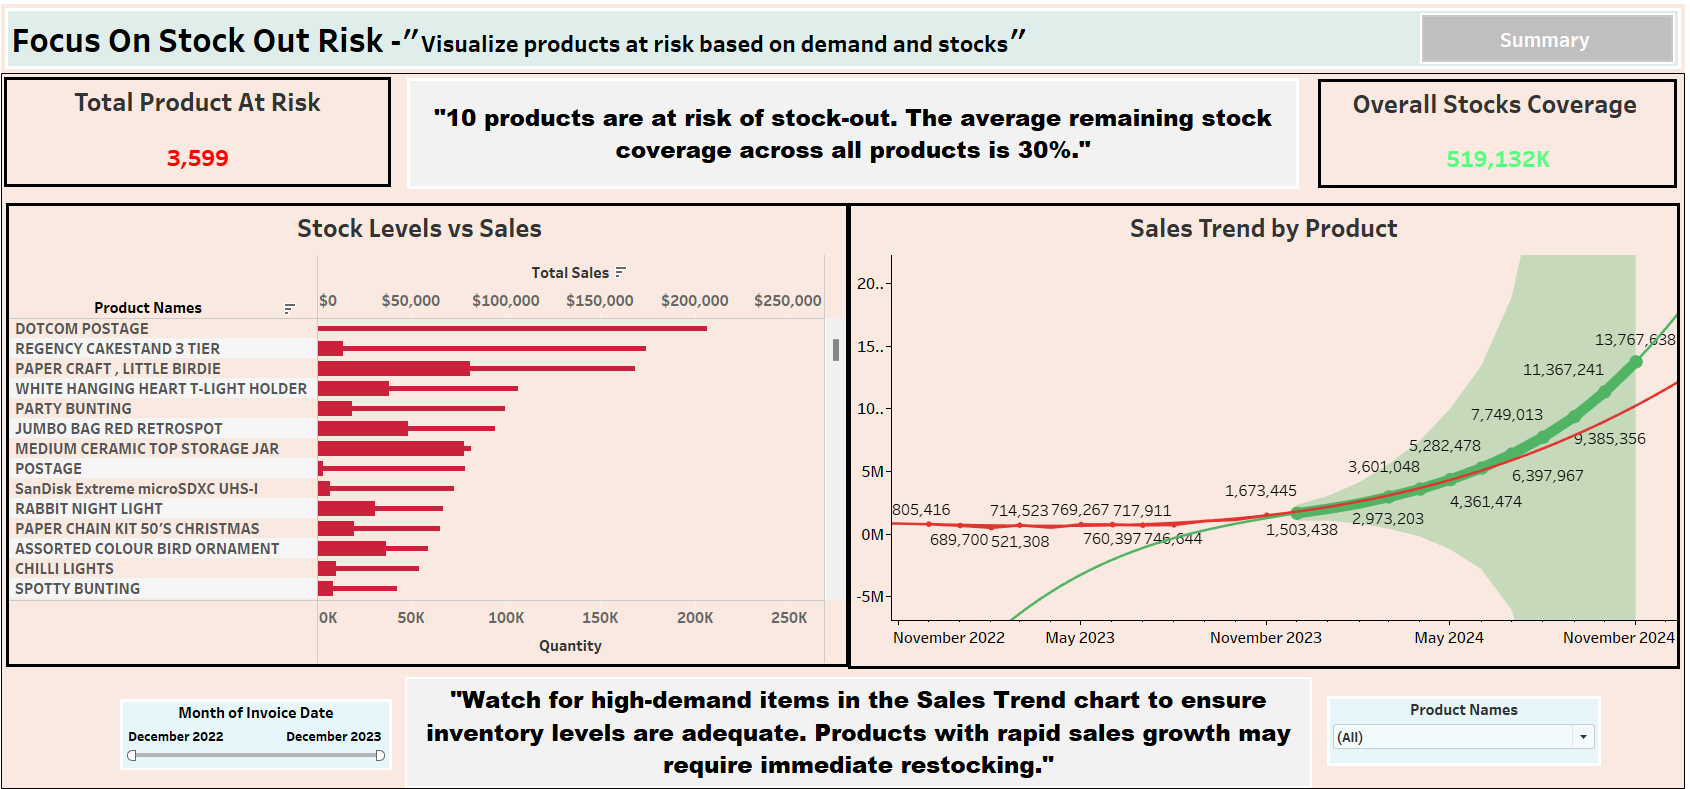

What the dashboard file says about the page in this screenshot:
{"tool":"tableau","page":{"name":"Focus on Stock-Out Risk","canvas":[1000,1000],"units":"permille","ordinal":0},"visuals":[{"type":"text","box":[4.9,10.2,990.1,85.7]},{"type":"dashboard-object","box":[839.3,21.8,150.3,64]},{"type":"worksheet","title":"Total Product At Risk","mark":"Automatic","box":[6.7,101.2,227.9,137]},{"type":"text","box":[243.3,102.4,525,138.3]},{"type":"worksheet","title":"Overall Stocks Coverage ","mark":"Automatic","box":[779.5,103.7,211.4,135.7]},{"type":"worksheet","title":" Stock Levels vs Sales","mark":"Bar","rows":["Description"],"cols":["Quantity","Total Sales"],"box":[7.7,258.6,496.2,578.8]},{"type":"worksheet","title":"Sales Trend by Product","mark":"Automatic","rows":["Total Sales"],"cols":["InvoiceDate"],"box":[502.8,258.6,489.3,581.3]},{"type":"dashboard-object","box":[777.2,326.5,147.2,44.8]},{"type":"text","box":[242.3,850.2,533.5,138.6]},{"type":"filter","title":"Sales Trend by Product","param":"[federated.1yljzxz1cs5ijw1c9xl2217wrrkq].[none:Description:nk]","box":[785,874.5,161.3,87.1]},{"type":"filter","title":" Stock Levels vs Sales","param":"[federated.1yljzxz1cs5ijw1c9xl2217wrrkq].[tmn:InvoiceDate:qk]","box":[74.5,877.1,160.1,89.6]}]}

Visuals, with their boxes on the dashboard's canvas, which has no fixed pixel size, in thousandths of its width and height (x1, y1, x2, y2). These are canvas units, not pixel positions in the 1690x789 screenshot, which may show the page scaled, cropped or inside an application window:
text: [x1=5, y1=10, x2=995, y2=96]
dashboard-object: [x1=839, y1=22, x2=990, y2=86]
"Total Product At Risk" worksheet: [x1=7, y1=101, x2=235, y2=238]
text: [x1=243, y1=102, x2=768, y2=241]
"Overall Stocks Coverage " worksheet: [x1=780, y1=104, x2=991, y2=239]
" Stock Levels vs Sales" worksheet (Bar marks): [x1=8, y1=259, x2=504, y2=837]
"Sales Trend by Product" worksheet: [x1=503, y1=259, x2=992, y2=840]
dashboard-object: [x1=777, y1=326, x2=924, y2=371]
text: [x1=242, y1=850, x2=776, y2=989]
"Sales Trend by Product" filter: [x1=785, y1=874, x2=946, y2=962]
" Stock Levels vs Sales" filter: [x1=74, y1=877, x2=235, y2=967]
